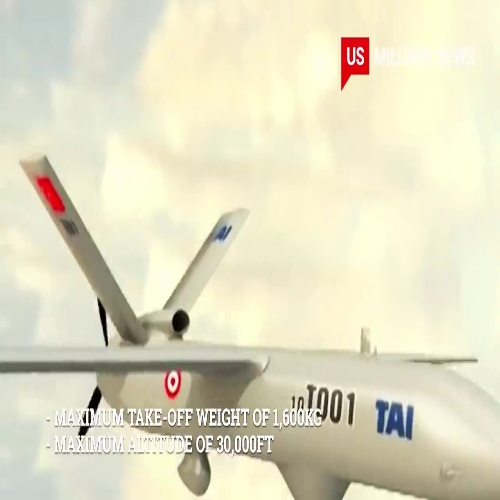uav735: (5, 155, 498, 500)
